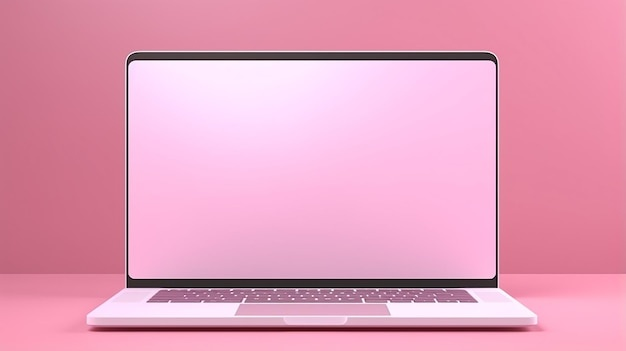laptop: (55, 31, 582, 343)
